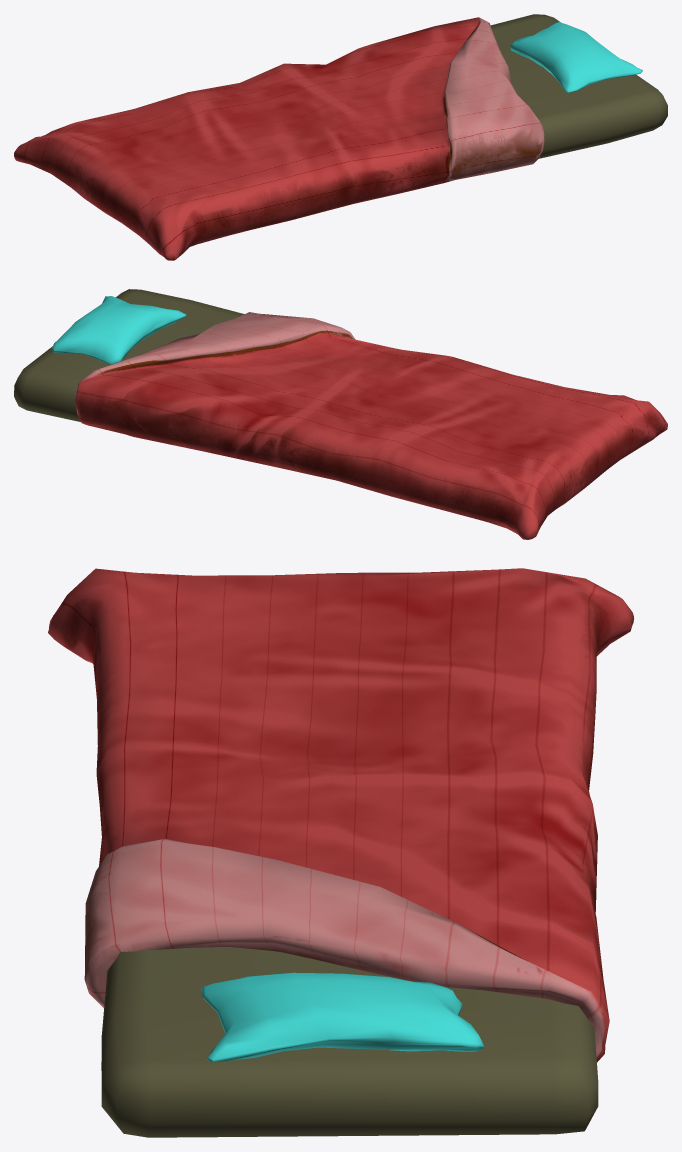
File: Lit_Camp_LOD00.FBX
3 views of the same model, one above another, from view 1: azimuth 30°, elevation 25°; view 2: azimuth 150°, elevation 25°; view 3: azimuth 270°, elevation 25° (orthographic). The views are drawn at different scales.
Parts seen in each view (by area): view 1: Lit_Camp_LP_LOD00; view 2: Lit_Camp_LP_LOD00; view 3: Lit_Camp_LP_LOD00.
Part boxes in pixels (x1,y1,x2,y2): Lit_Camp_LP_LOD00: (14,14,667,260); Lit_Camp_LP_LOD00: (14,289,667,539); Lit_Camp_LP_LOD00: (48,568,634,1137).
Bounding box in the file's own units: 151 × 17.14 × 72.28.
